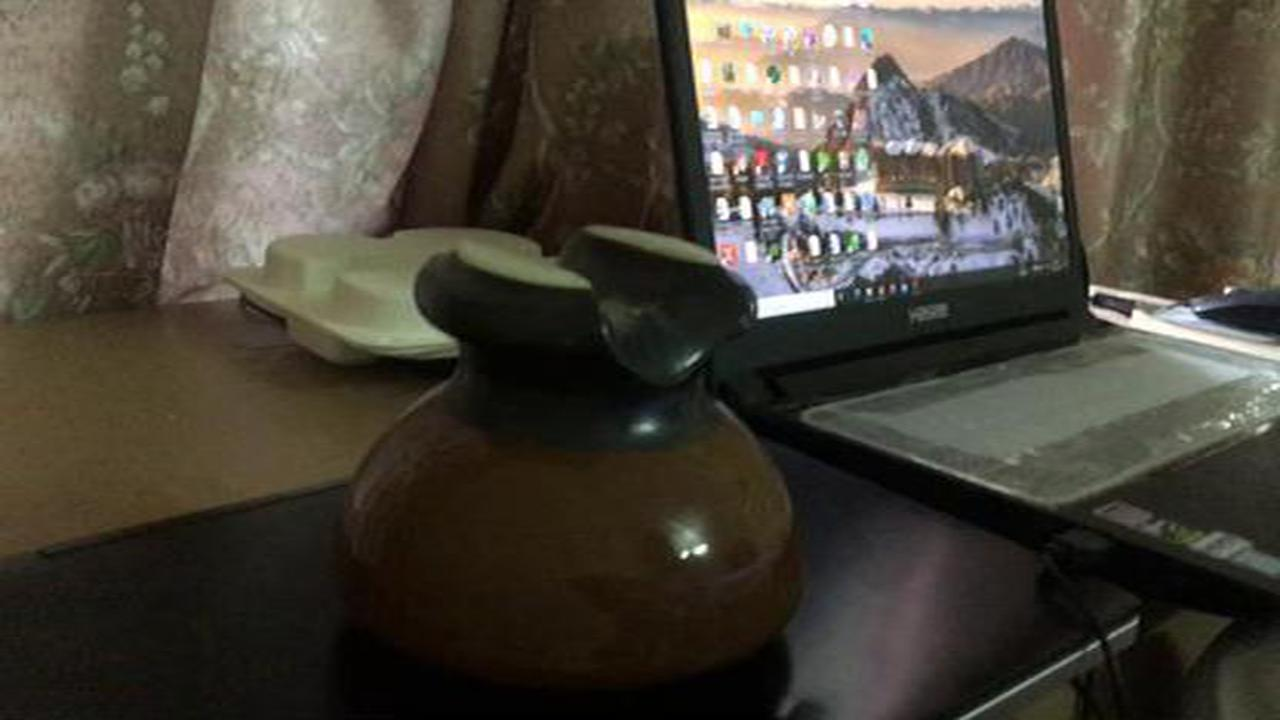insulator_pin: (320, 205, 828, 701)
